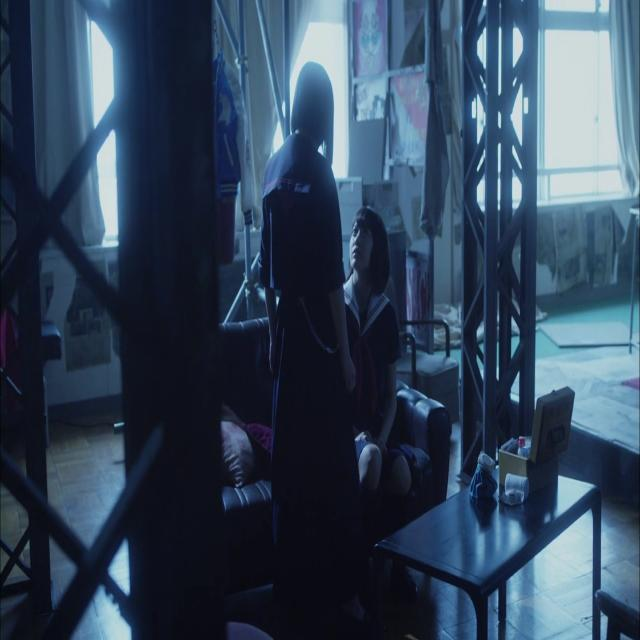People: (269, 55, 357, 632), (351, 188, 413, 540)
Table: (380, 410, 600, 640)
chair: (164, 256, 440, 582)
